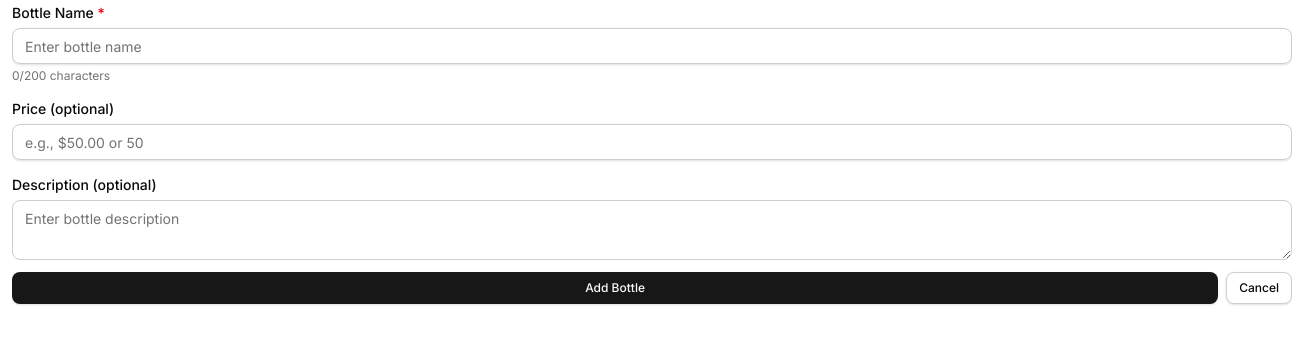
Test case: ItemForm › shows validation error when name is empty on submit
The image size is (1304, 342).
Click the button "Add Bottle". click: (615, 288)
box: [12,272,1218,304]
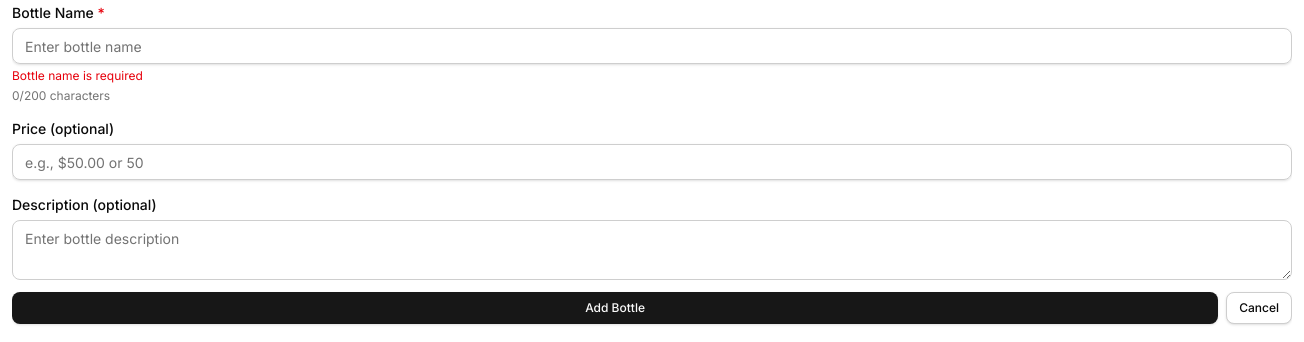
Now the text "Bottle name is required" is shown, box [12,68,143,83]
